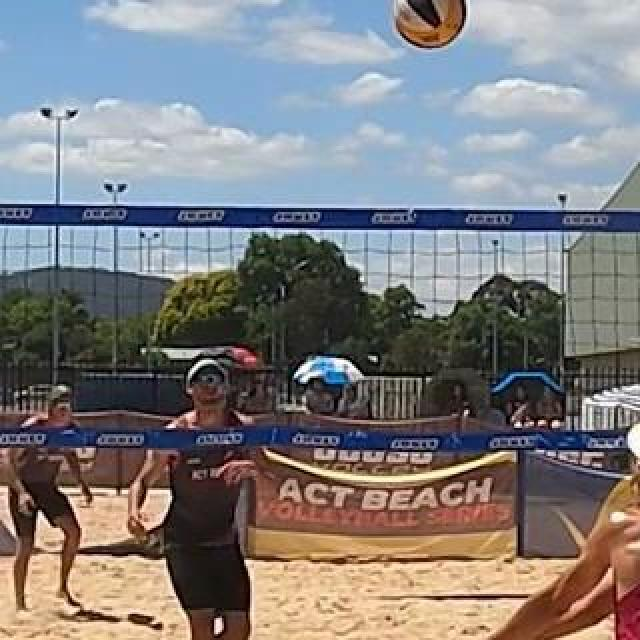volleyball: (391, 0, 467, 46)
